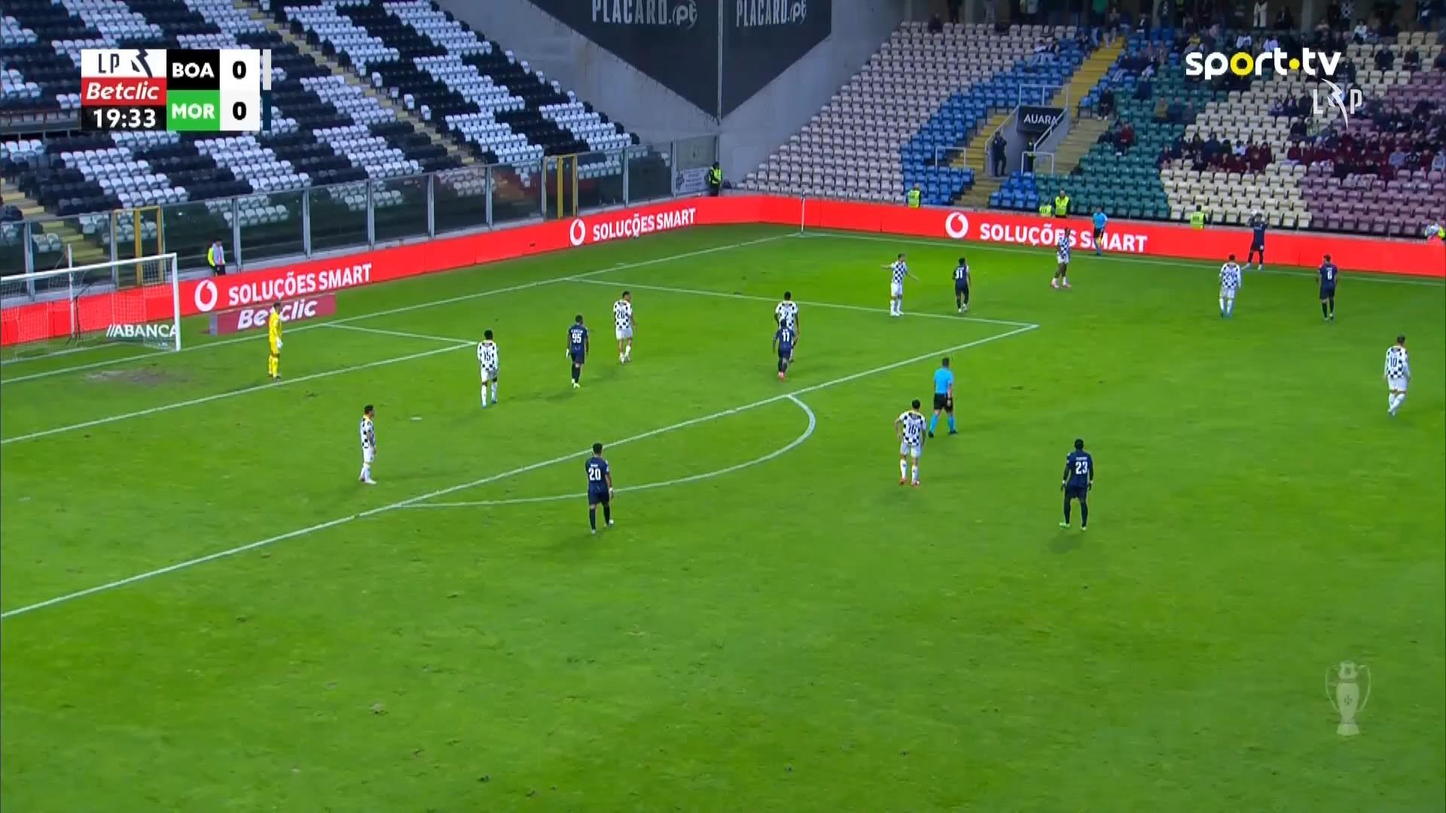goalkeeper: (266, 299, 284, 379)
player: (1057, 437, 1093, 530), (894, 397, 927, 486), (584, 442, 615, 534), (772, 291, 800, 380), (1383, 333, 1410, 416), (881, 252, 911, 317), (564, 313, 590, 388), (476, 329, 499, 408), (612, 290, 636, 364), (357, 403, 377, 484), (1315, 253, 1338, 320), (1217, 253, 1240, 317), (1051, 228, 1073, 288), (1245, 209, 1267, 269), (951, 257, 971, 313)
referee: (926, 356, 958, 437), (1091, 205, 1107, 256)
